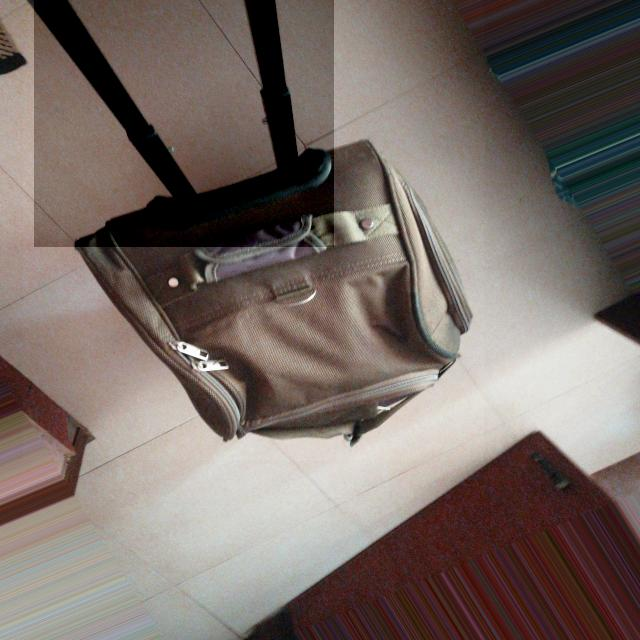Bag: (19, 2, 508, 518)
Handle: (30, 0, 329, 212)
